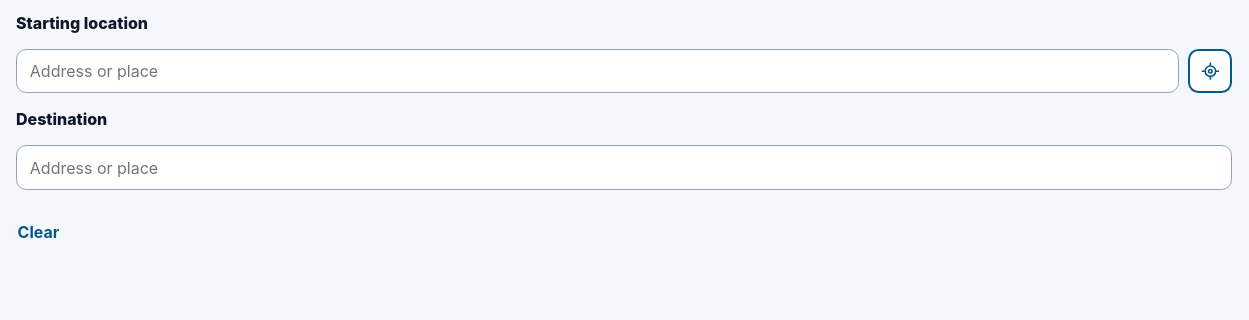
Test: TripPlanner › switches to manual origin entry when the service area is not available yet
Click the button named "Use my location": [1210, 71] box [1188,49,1232,93]
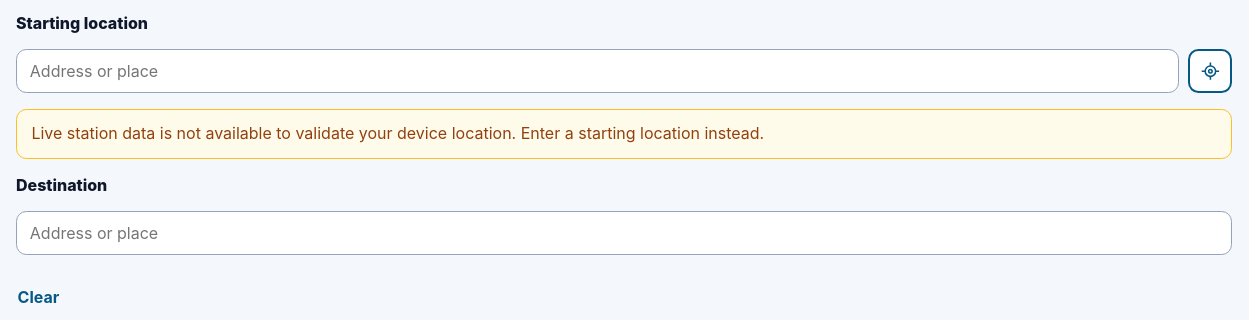
Expected: the dropdown labelled "Starting location" is empty, [16,49,1179,93]
Result: the text "Live station data is not available to validate your device location. Enter a starting location instead." is shown at [31,123,764,143]
